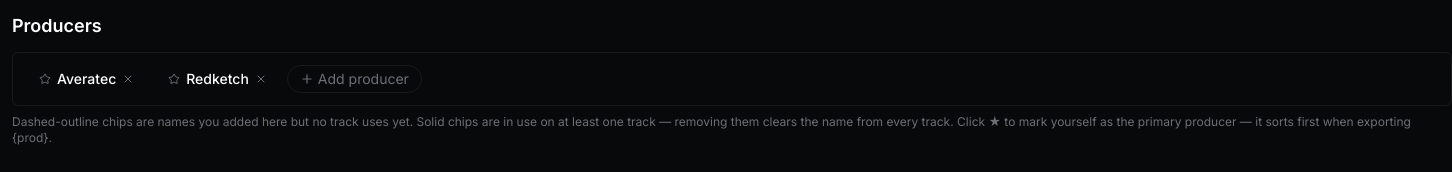
Test: ProducersSection primary marker › clicking the star sets the producer as primary (★)
Expected: the text "Averatec" is shown, top-left (37, 70), bottom-right (136, 87)
Step 1. Click the button named "set Averatec as primary" → (45,79), box top-left (37, 71), bottom-right (53, 87)
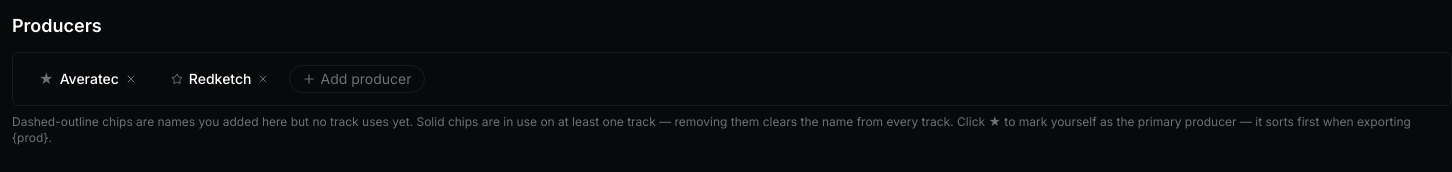
Now the text "★" is shown, box top-left (39, 70), bottom-right (54, 87)
